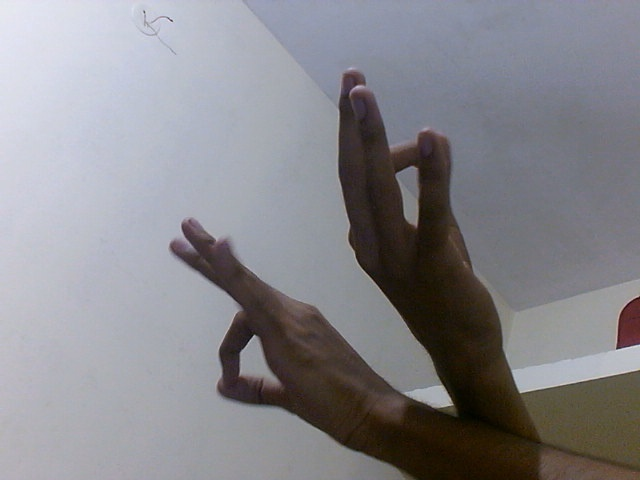hand: (165, 215, 406, 463), (334, 63, 517, 389)
